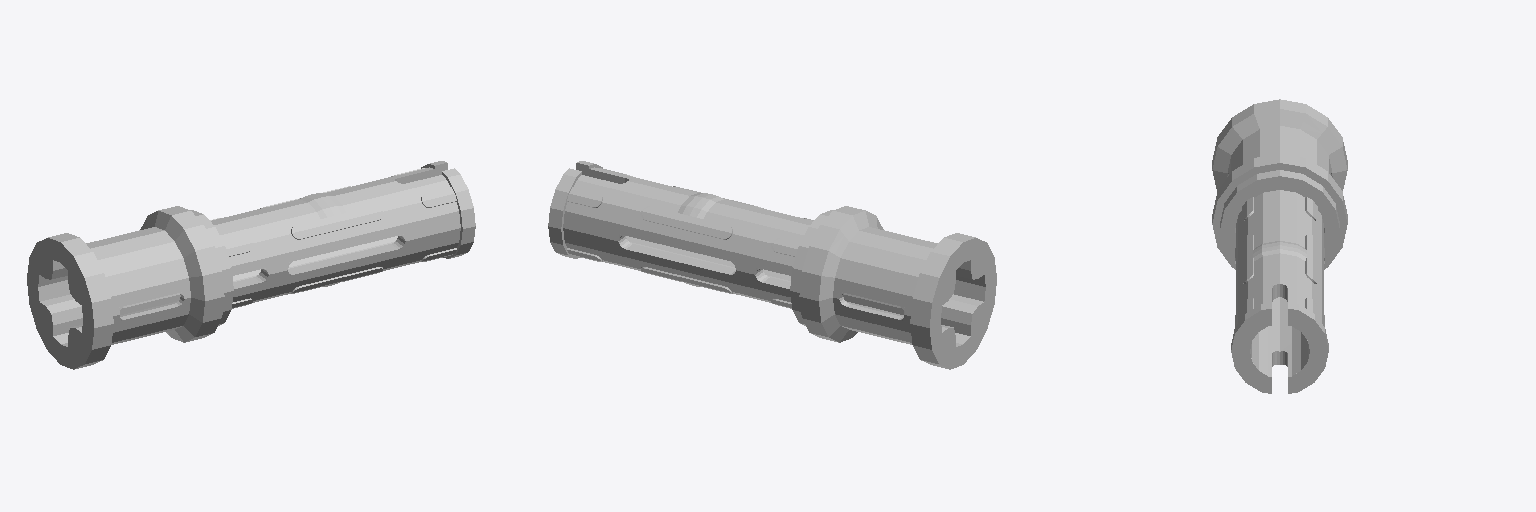
File: Piece023.obj
3 views of the same model, side by side, from view 1: azimuth 30°, elevation 25°; view 2: azimuth 150°, elevation 25°; view 3: azimuth 270°, elevation 25° (orthographic).
Parts seen in each view (by area): view 1: Piece000; view 2: Piece000; view 3: Piece000.
Boxes of the visible parts, x1=… form: Piece000: x1=27, y1=161, x2=475, y2=369; Piece000: x1=548, y1=161, x2=996, y2=369; Piece000: x1=1212, y1=99, x2=1347, y2=393.
Bounding box in the file's own units: 60 × 18 × 18.